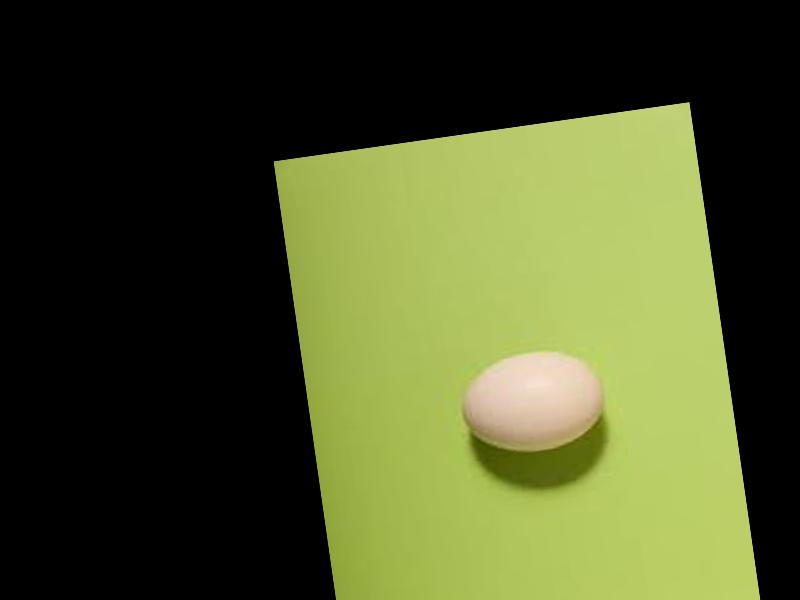Eggs: (453, 346, 609, 461)
